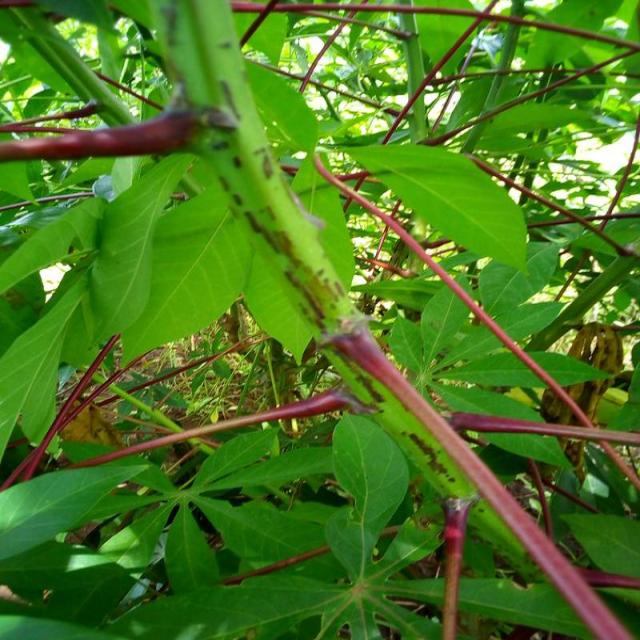cassava leaf: (1, 1, 637, 637), (333, 139, 529, 275), (324, 411, 410, 584)
